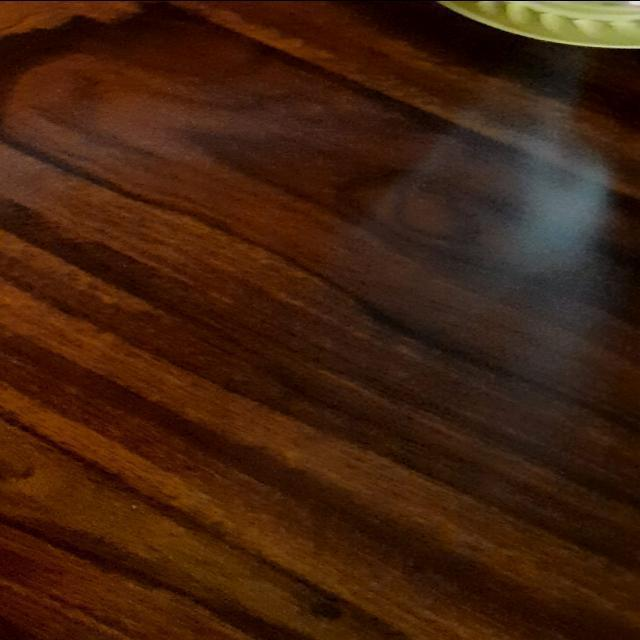fire: (294, 51, 632, 444)
